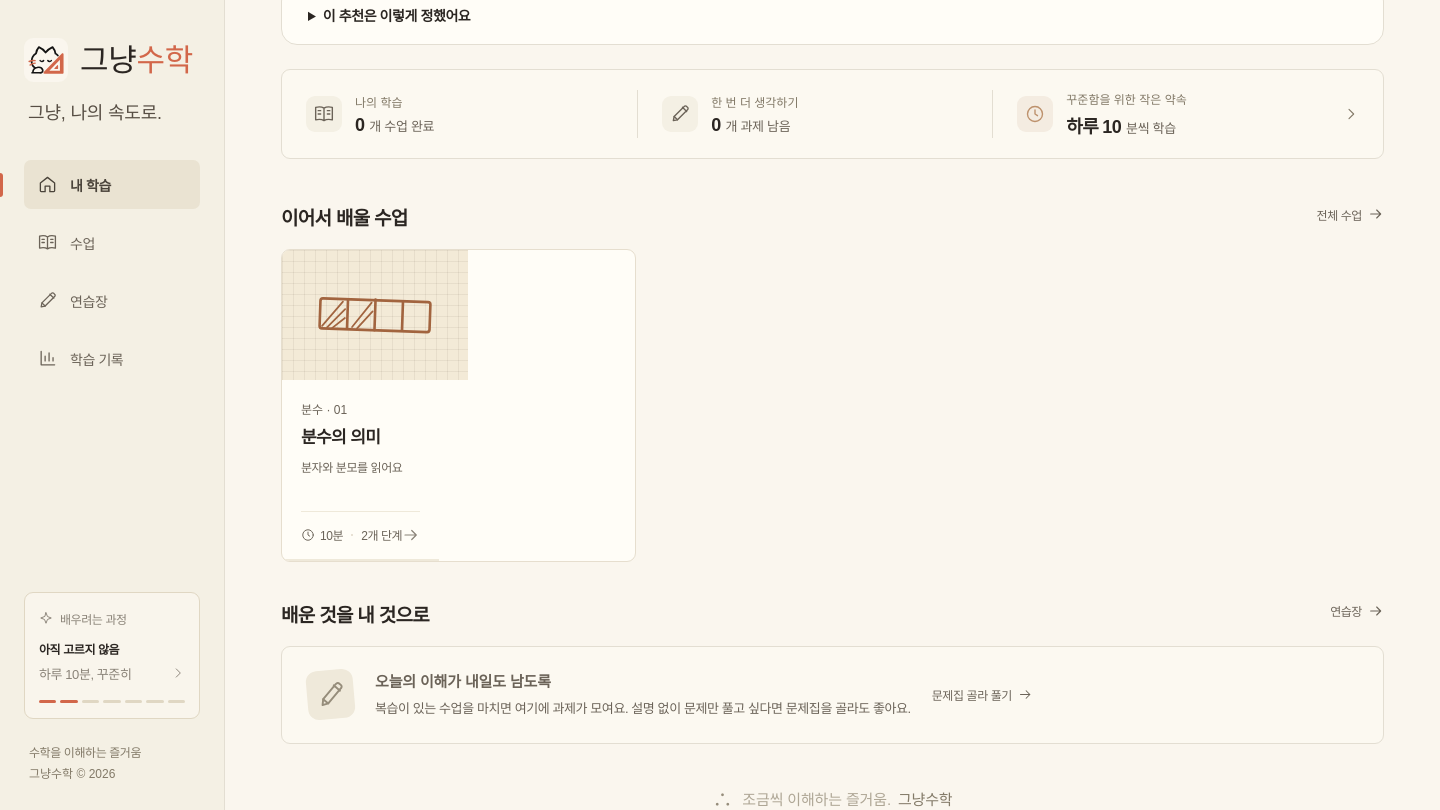
Scenario: a step is finished when the server says so › stays where it is when the server refuses the step
(page scrolled)
Click the button "분수 · 01 분수의 의미 분자와 분모를 읽어요 10분 2개 단계".
click(375, 315)  # box [281,249,636,562]
Wait 1 ms
(page scrolled)
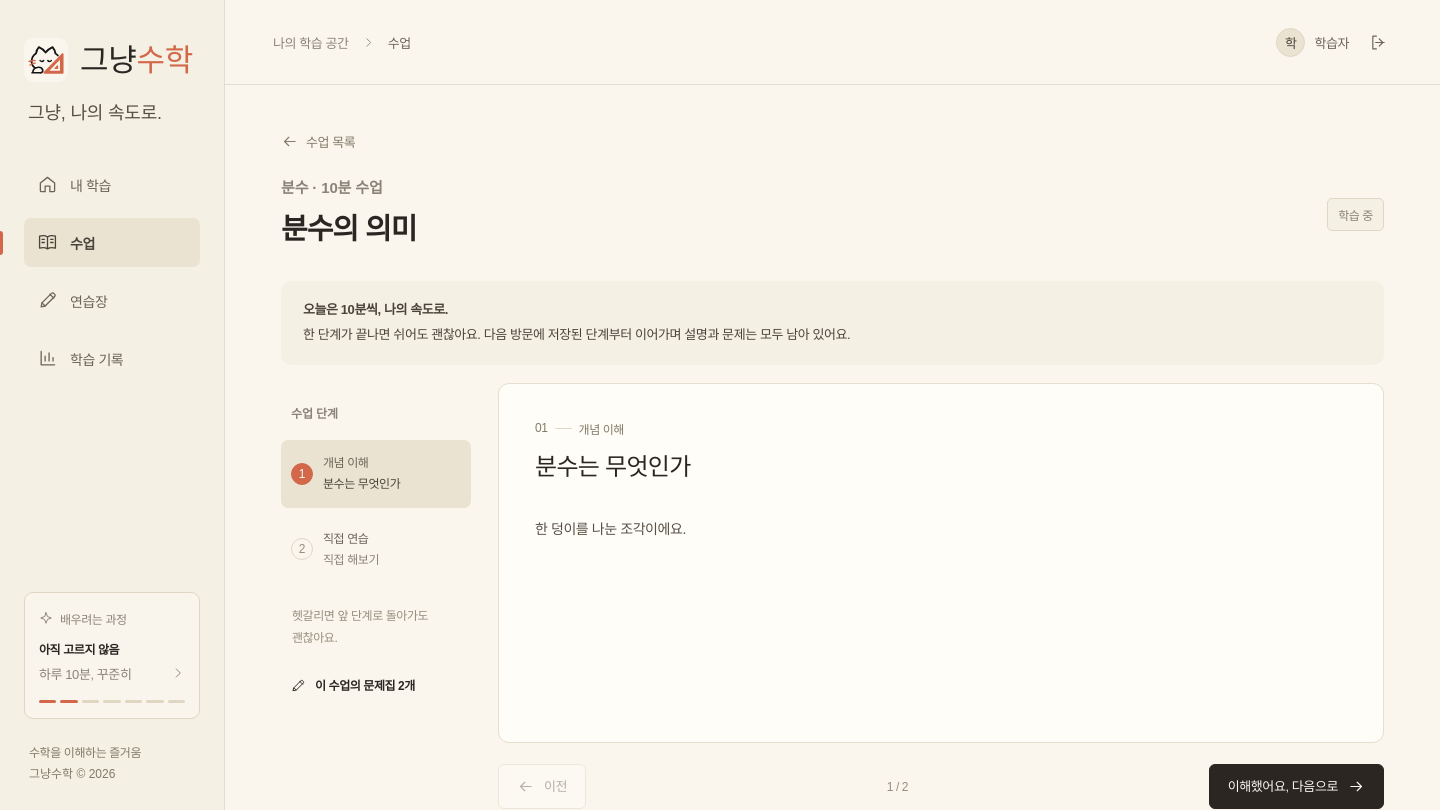
Expected: the heading "분수의 의미" is shown, [281,206,416,252]
Click the button "이해했어요, 다음으로".
click(1296, 787)  # box [1209,764,1384,809]
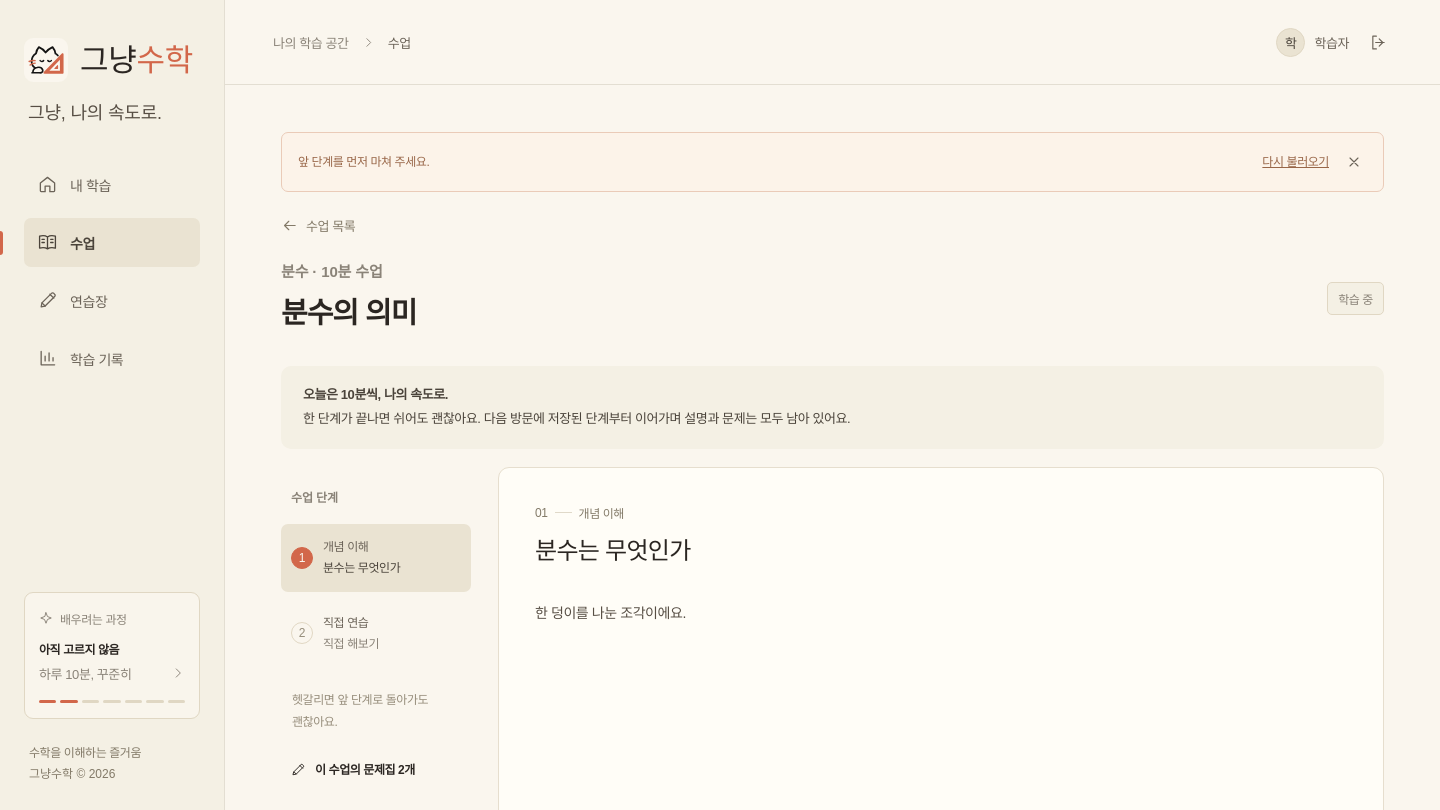
Expected: the text "앞 단계를 먼저 마쳐 주세요." is shown, [298,155,429,169]
